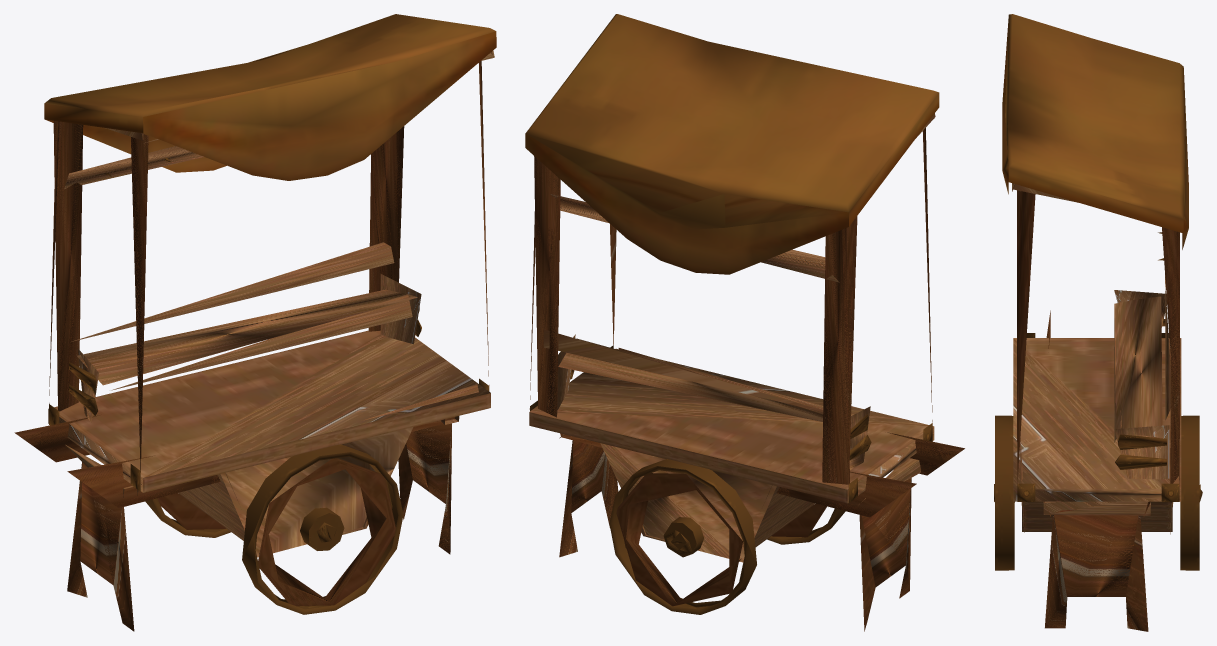
The model's file is Stall_Cart_Empty.medium.gltf.
3 views of the same model, side by side, from view 1: azimuth 30°, elevation 25°; view 2: azimuth 150°, elevation 25°; view 3: azimuth 270°, elevation 25° (orthographic). The views are drawn at different scales.
Parts seen in each view (by area): view 1: Stall_Cart_Empty; view 2: Stall_Cart_Empty; view 3: Stall_Cart_Empty.
Part boxes in pixels (box(x1,y1,x2,y2)): Stall_Cart_Empty: box(14, 14, 496, 631); Stall_Cart_Empty: box(525, 14, 964, 631); Stall_Cart_Empty: box(994, 14, 1202, 631).
Bounding box in the file's own units: 2.09 × 2.63 × 1.05.
3 materials, 3 textured.
